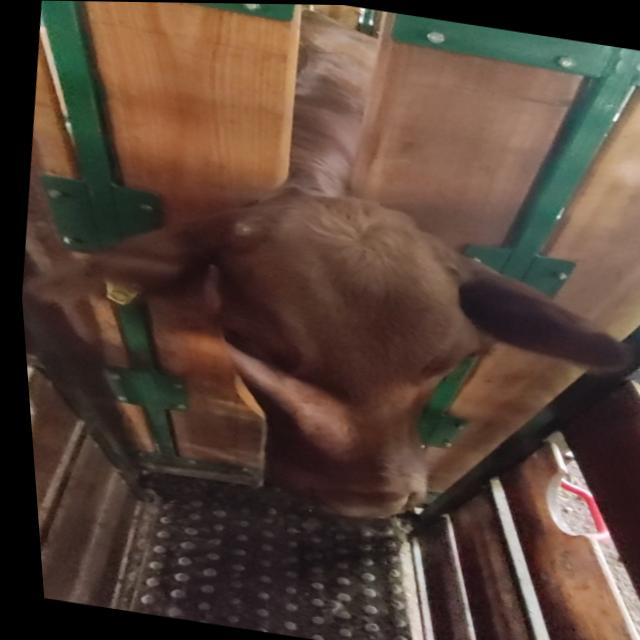cowFace: (175, 179, 508, 533)
